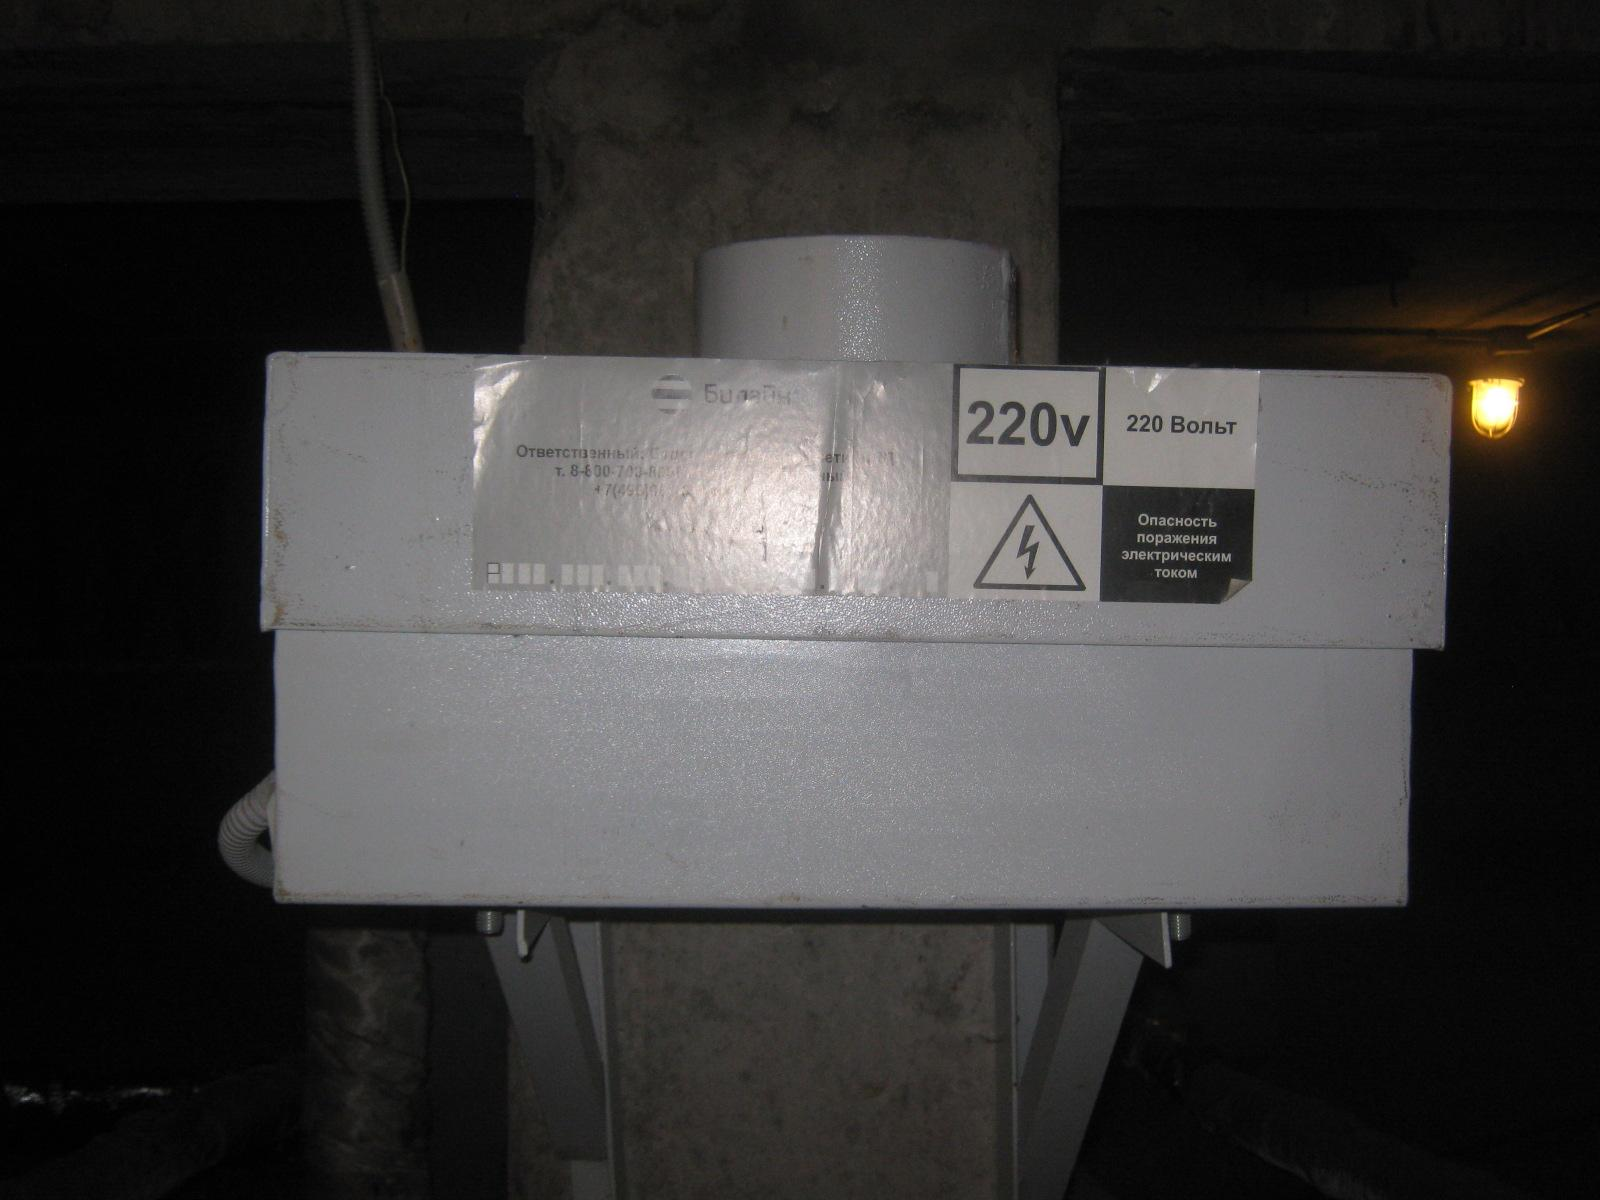shta-ps: (232, 221, 1461, 943)
